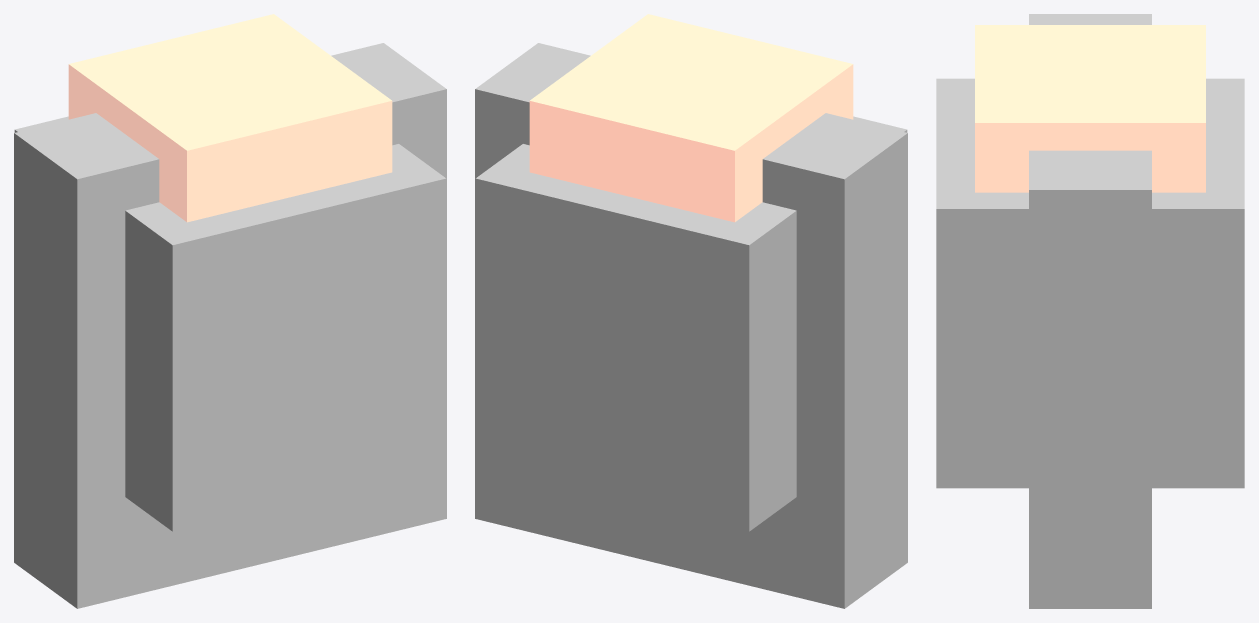
Rendered from final_truck.glb.
3 renders of one model, left to right at view 1: azimuth 30°, elevation 25°; view 2: azimuth 150°, elevation 25°; view 3: azimuth 270°, elevation 25°, orthographic. The views are drawn at different scales.
Visible parts, largest first — view 1: Cube, Cube.001, VehicleObject; view 2: Cube, Cube.001, VehicleObject; view 3: Cube, Cube.001, VehicleObject.
Boxes of the visible parts, x1=… form: Cube: x1=14, y1=116, x2=446, y2=531; Cube.001: x1=14, y1=43, x2=446, y2=608; VehicleObject: x1=68, y1=14, x2=392, y2=222; Cube: x1=475, y1=116, x2=907, y2=531; Cube.001: x1=475, y1=43, x2=907, y2=608; VehicleObject: x1=529, y1=14, x2=853, y2=222; Cube: x1=936, y1=78, x2=1244, y2=488; Cube.001: x1=1029, y1=14, x2=1151, y2=608; VehicleObject: x1=975, y1=25, x2=1205, y2=192.
Bounding box in the file's own units: 2.7 × 3.2 × 2.
